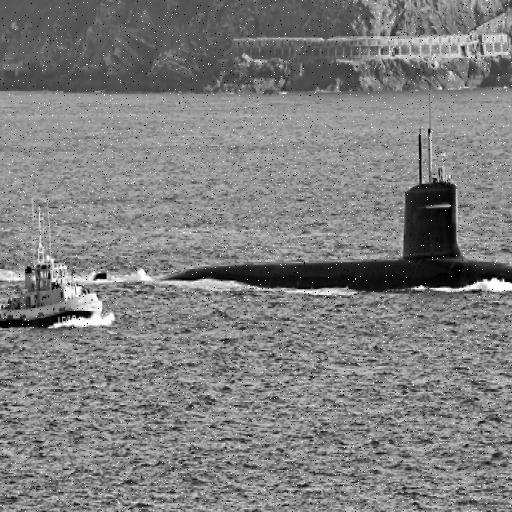submarine: (163, 91, 512, 282)
